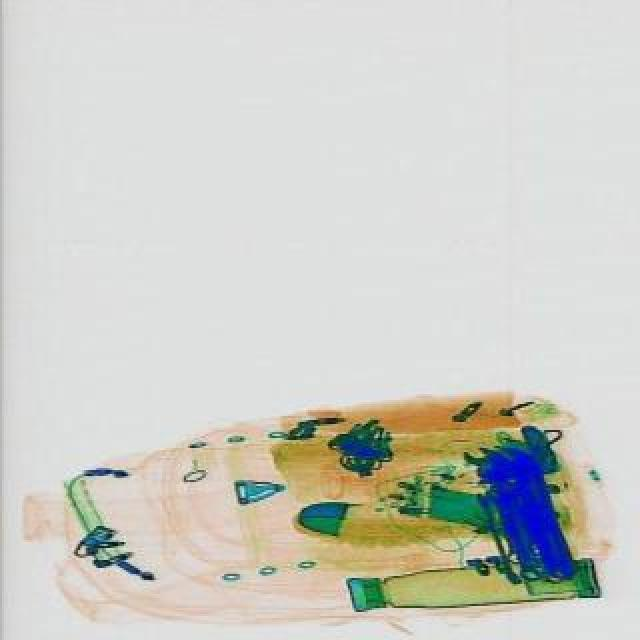wrench: (458, 440, 548, 584)
